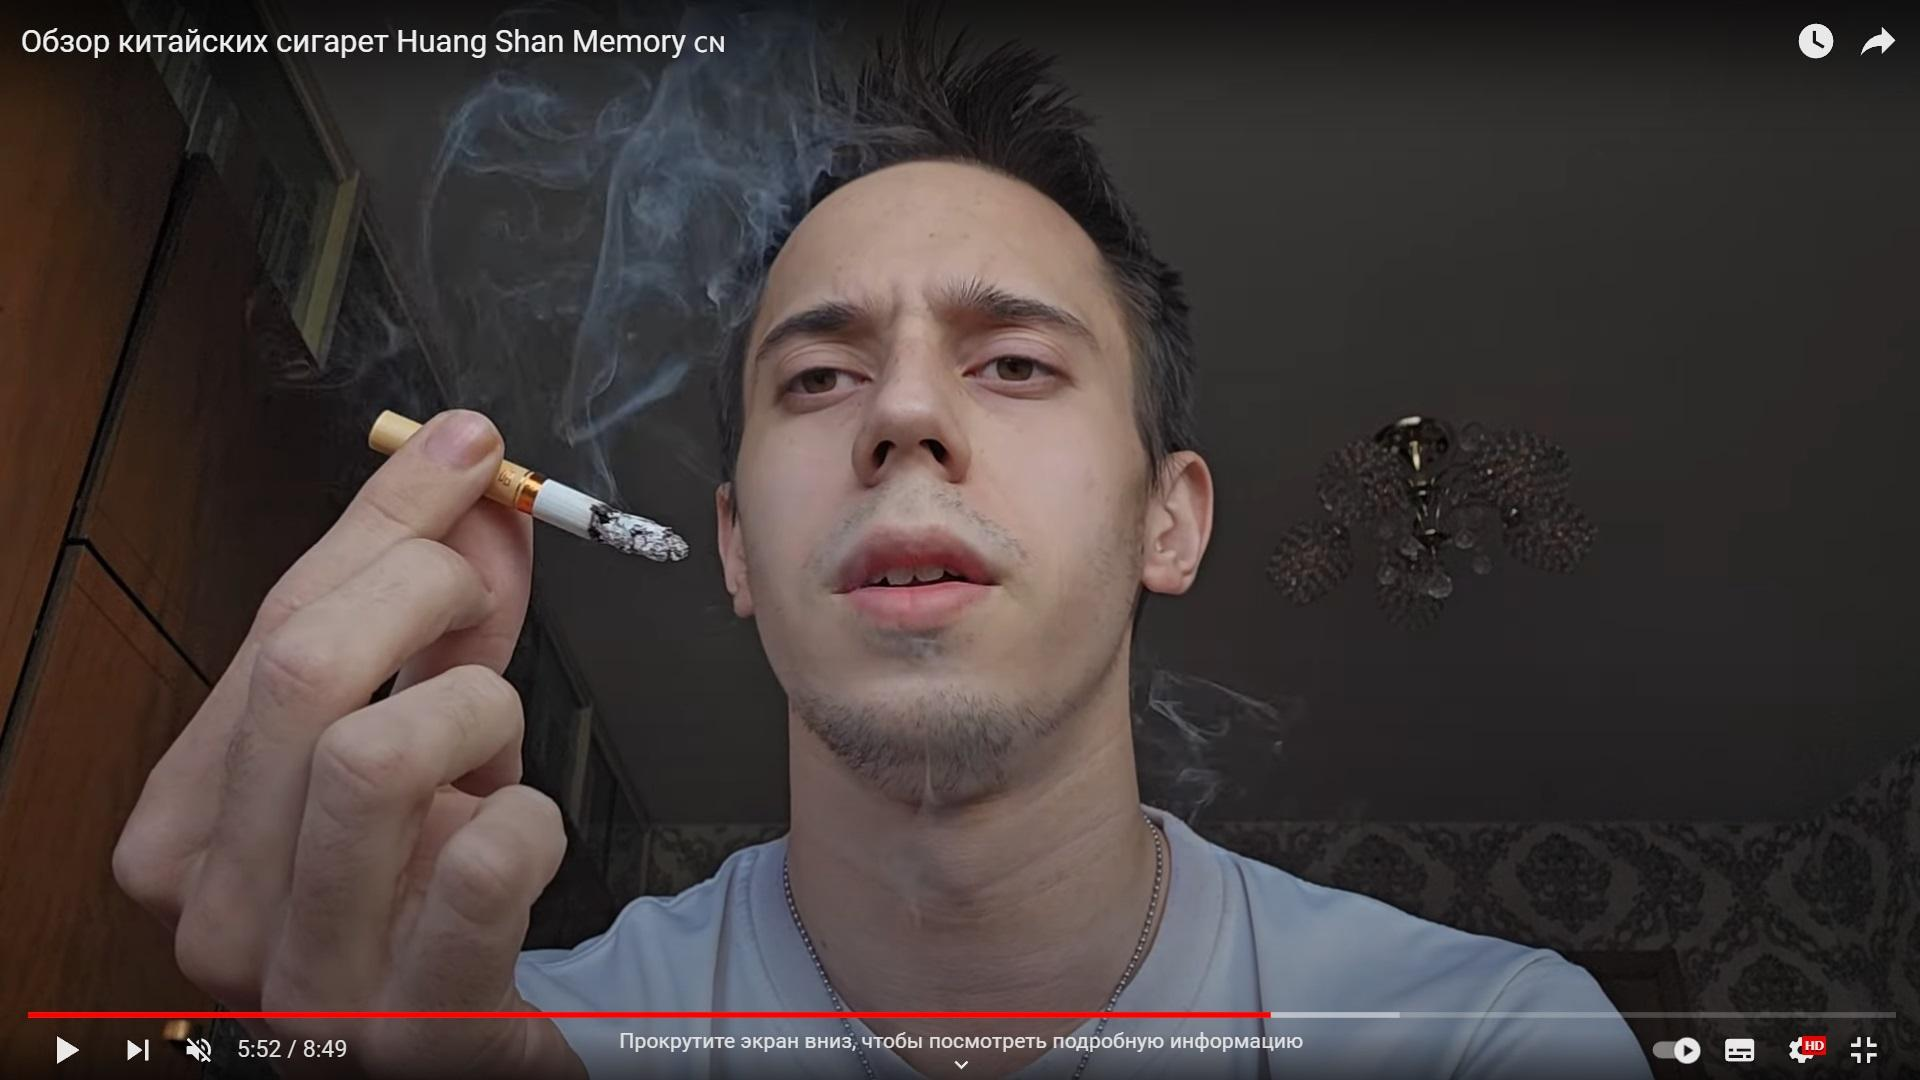cigarette: (367, 410, 688, 562)
